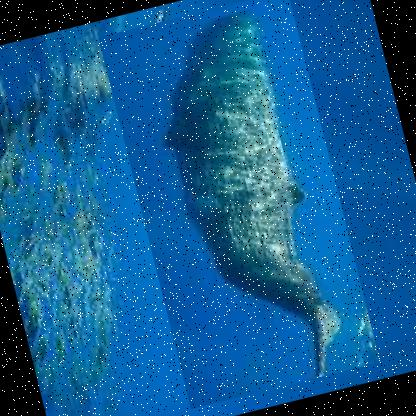sperm_whale: (97, 0, 381, 411)
